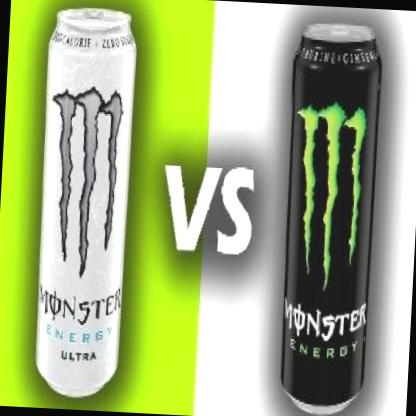alumunium_can: (29, 2, 139, 402), (274, 18, 384, 414)
